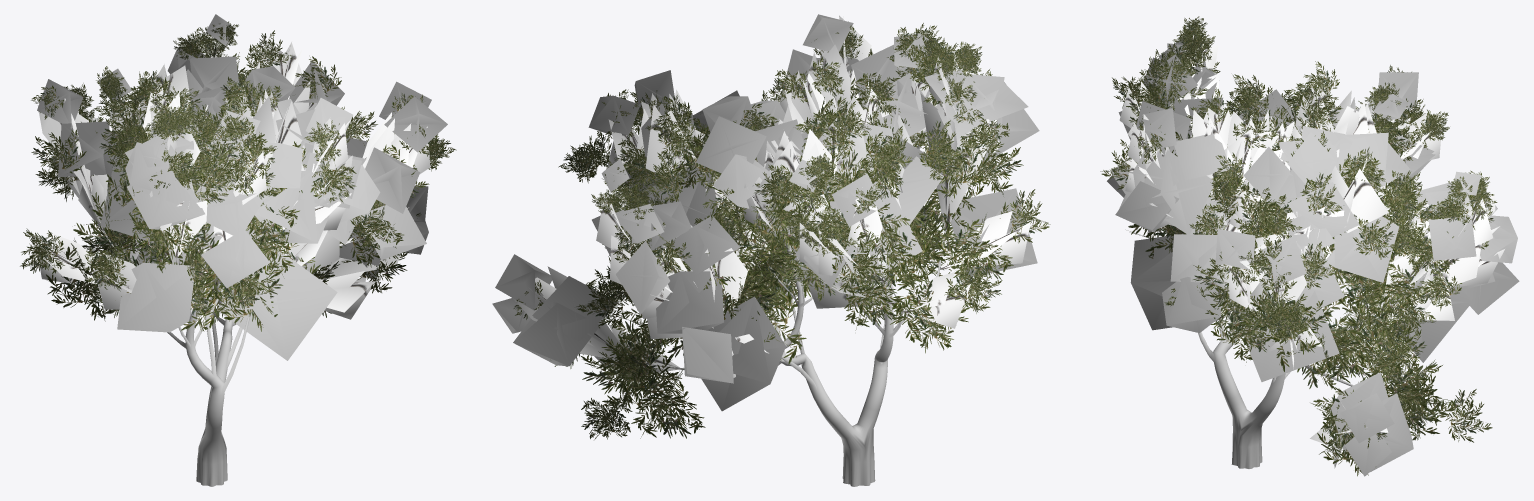
Rendered from Type_2_4.fbx.
The picture shows the model from 3 angles, left to right: view 1: azimuth 30°, elevation 25°; view 2: azimuth 150°, elevation 25°; view 3: azimuth 270°, elevation 25°; orthographic projection. The views are drawn at different scales.
Parts seen in each view (by area): view 1: Type_2_4; view 2: Type_2_4; view 3: Type_2_4.
Boxes of the visible parts, x1,y1,x2,y2 form: Type_2_4: (20,14,456,486); Type_2_4: (492,14,1050,486); Type_2_4: (1100,16,1519,476).
Size of the model in its own units: 13.02 by 11.13 by 11.85.
